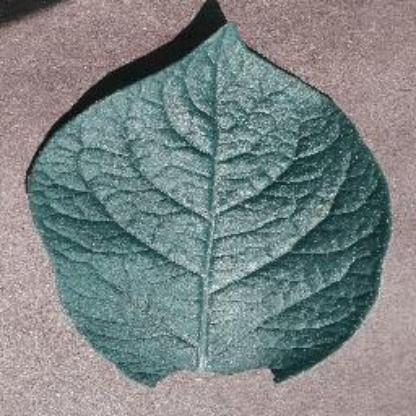Healthy-plant: (26, 12, 394, 396)
